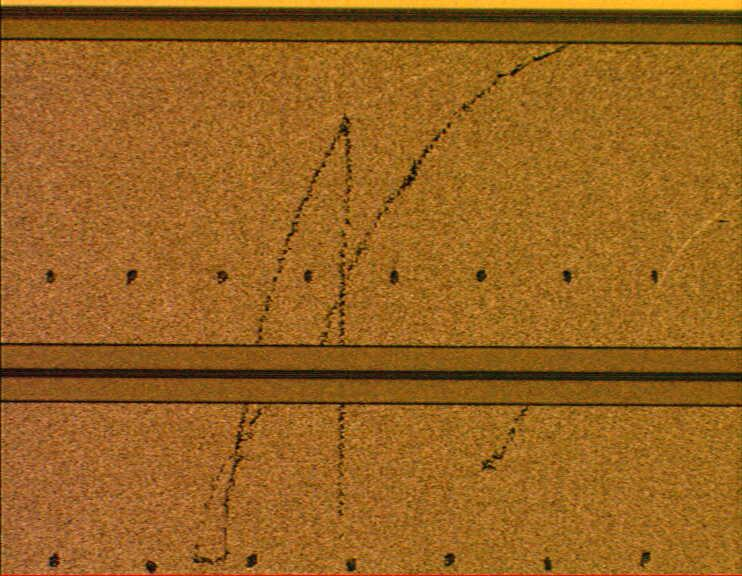SCRATCH: (186, 34, 582, 570)
